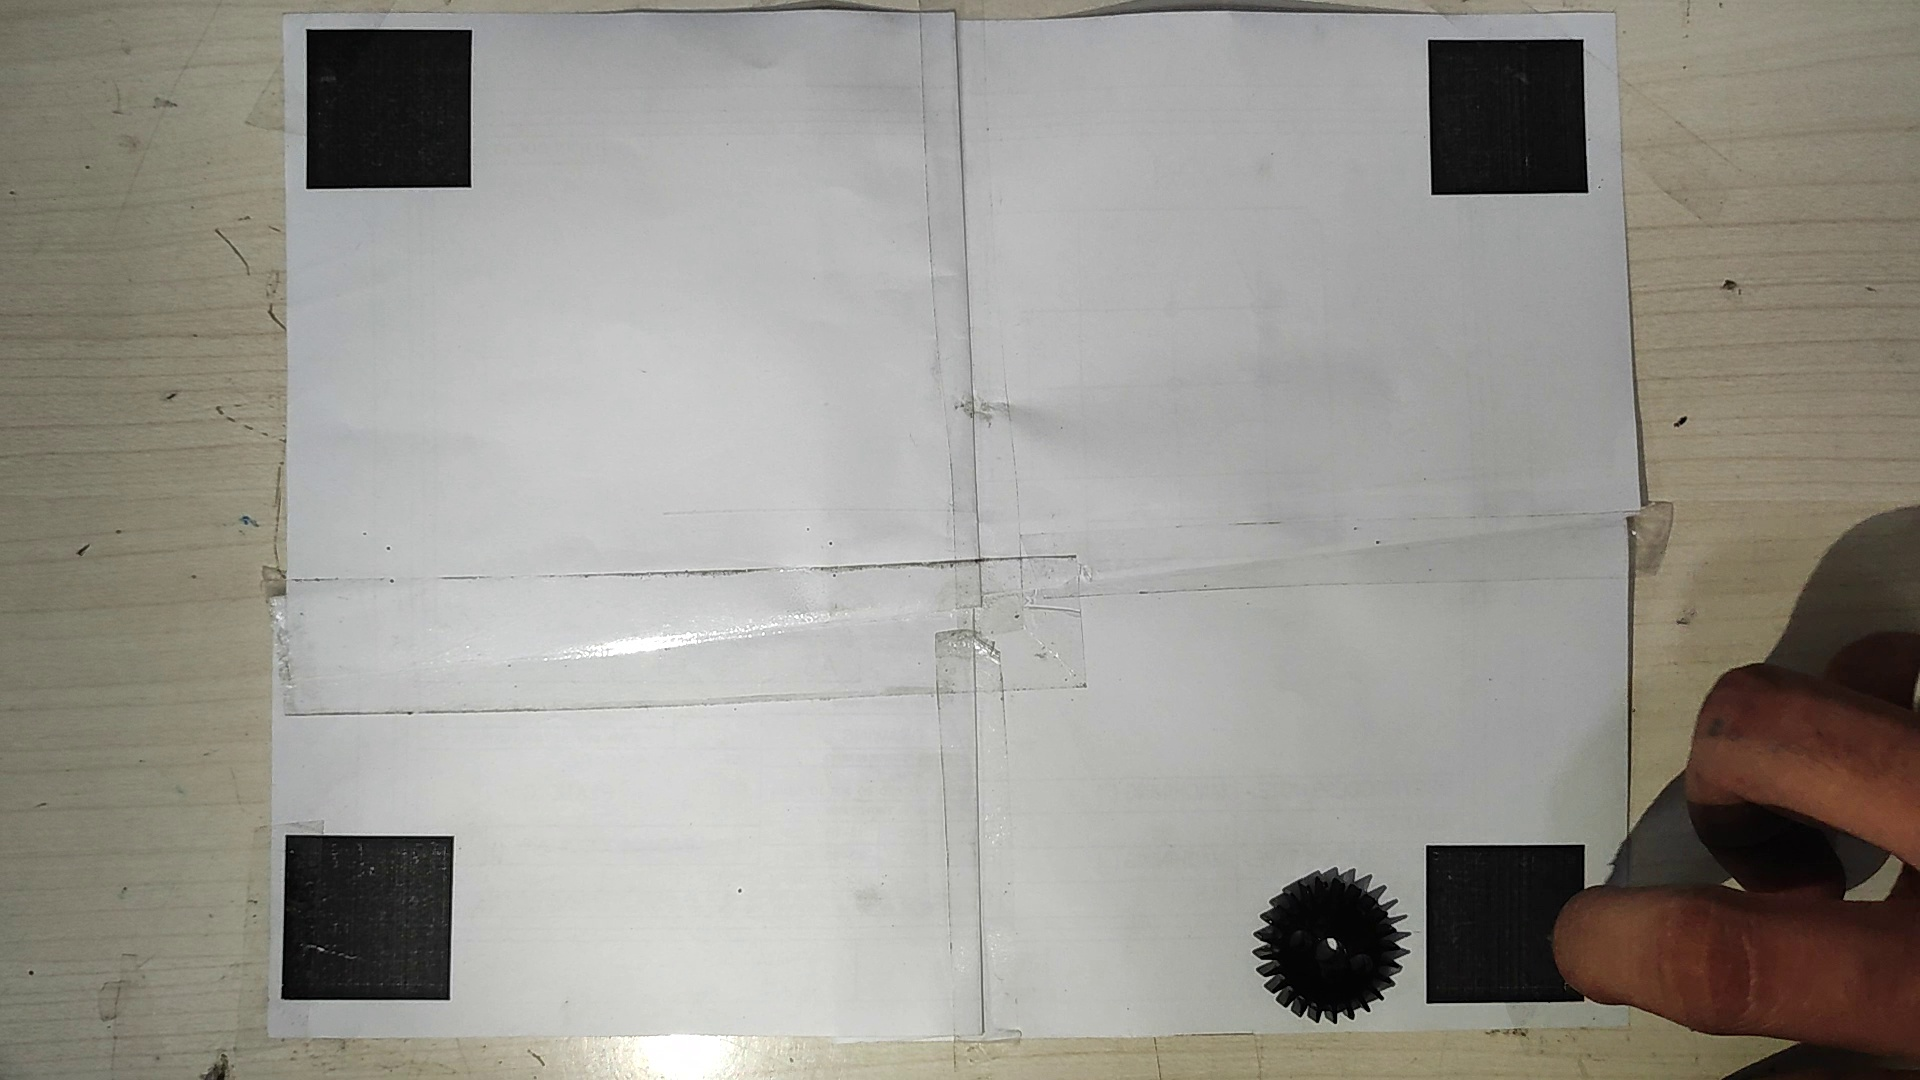Gear: (1246, 866, 1407, 1024)
